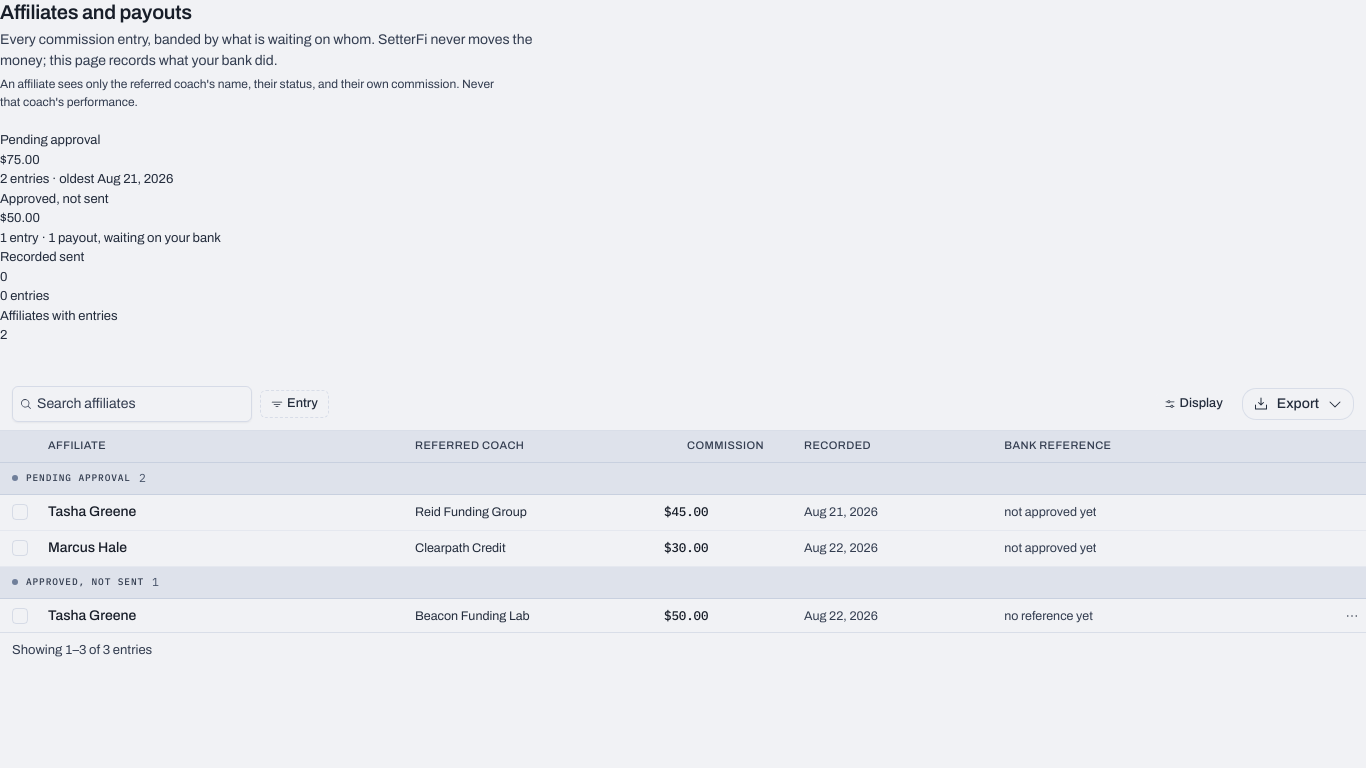
Scenario: AdminMoneyAffiliates › names the payout, marks the reference required, and says the record cannot be undone
This screenshot has width=1366, height=768.
Click the button named "Payout actions for Tasha Greene". click: (1352, 616)
box: x1=1338 y1=602 x2=1365 y2=630
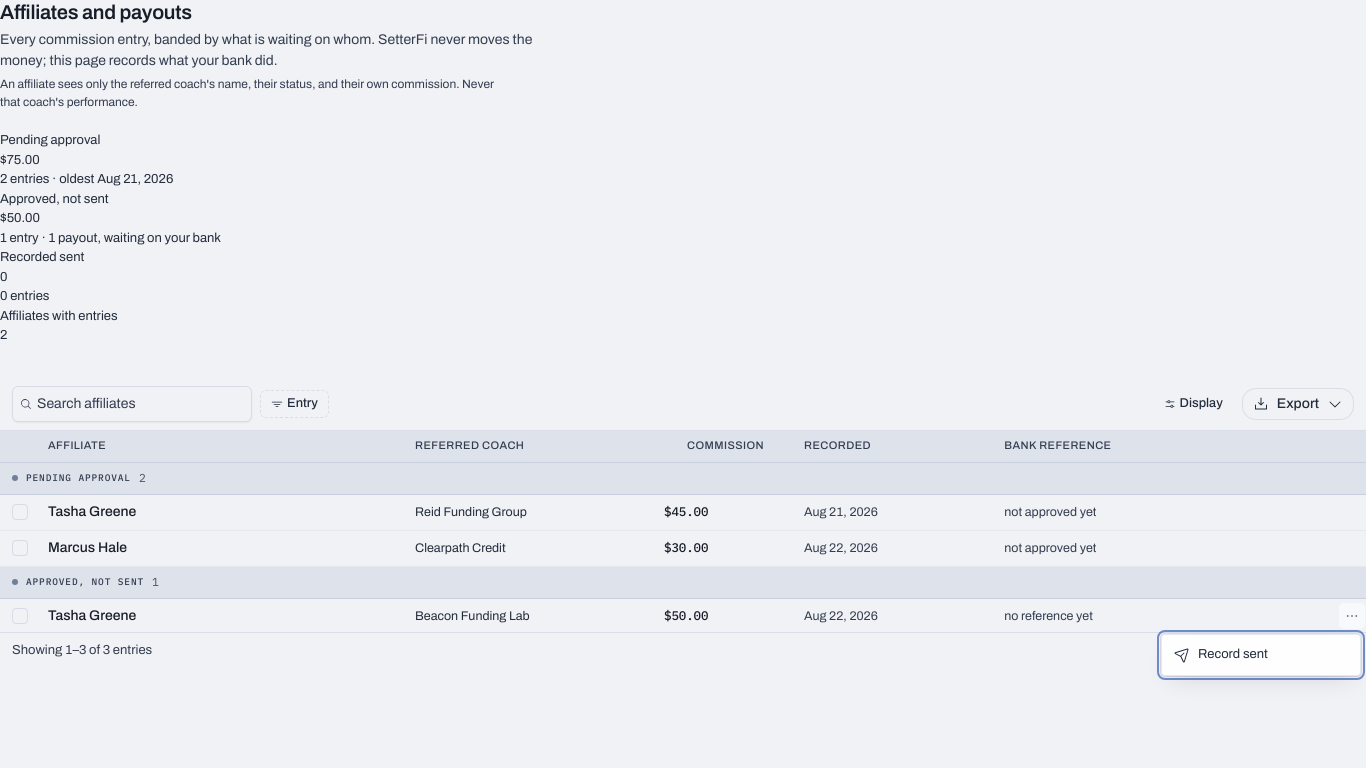
Click the menu item "Record sent". click: (1221, 655)
box: x1=1174 y1=647 x2=1268 y2=663
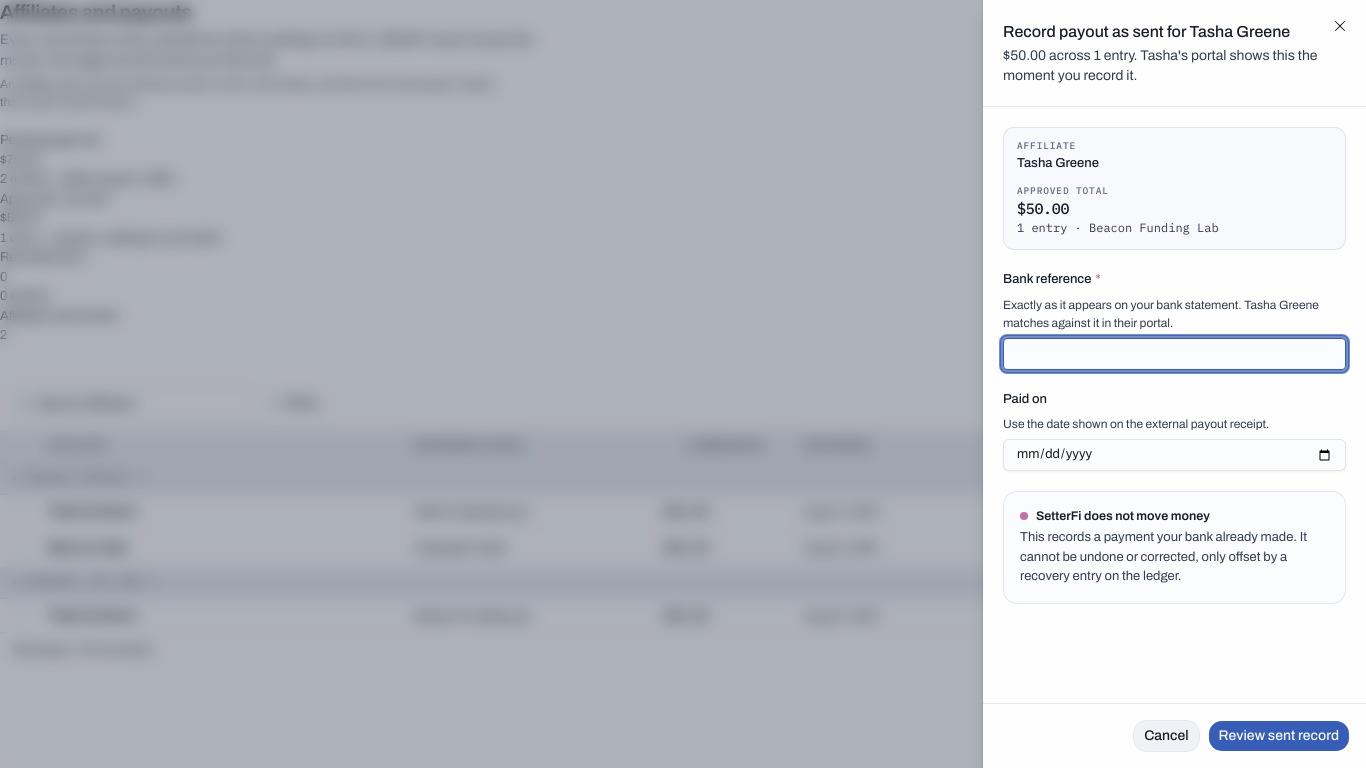
Now the heading "Record payout as sent for Tasha Greene" is shown, box x1=1003 y1=20 x2=1326 y2=44
Now the text "$50.00 across 1 entry." is shown, box x1=1003 y1=48 x2=1318 y2=83
Now the text "1 entry · Beacon Funding Lab" is shown, box x1=1017 y1=220 x2=1219 y2=235
